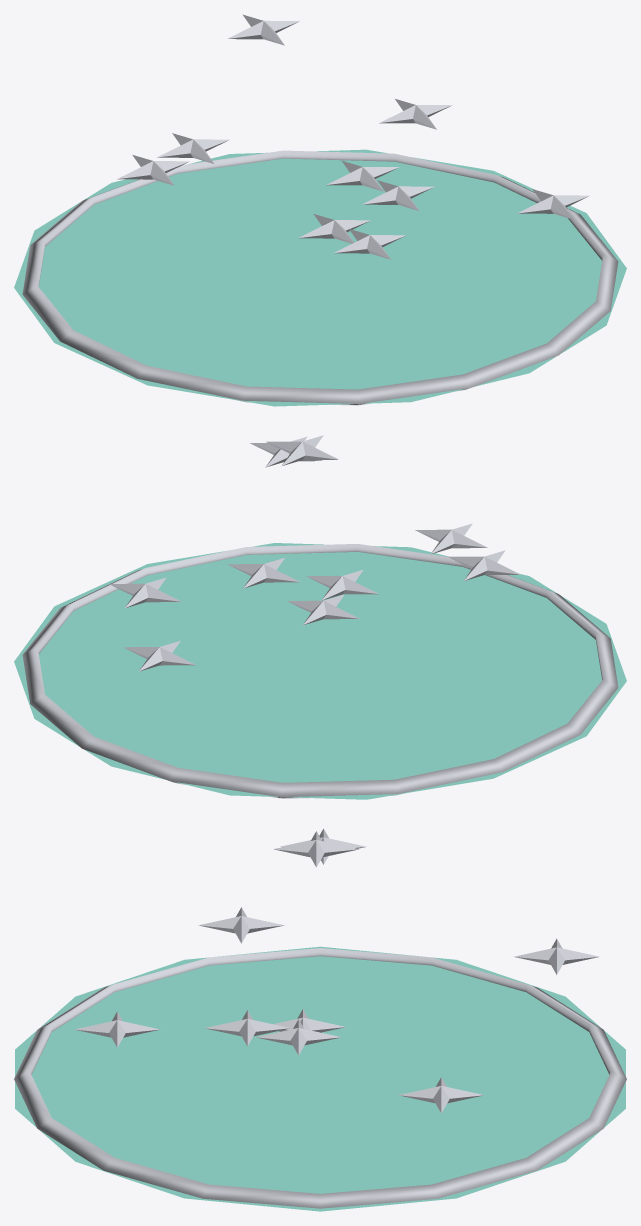
The model's file is ing_starlight_water.gltf.
3 renders of one model, top to bottom at view 1: azimuth 30°, elevation 25°; view 2: azimuth 150°, elevation 25°; view 3: azimuth 270°, elevation 25°, orthographic.
Parts seen in each view (by area): view 1: ing_starlight_water; view 2: ing_starlight_water; view 3: ing_starlight_water.
Part boxes in pixels (x1,y1,x2,y2): ing_starlight_water: [14, 14, 626, 406]; ing_starlight_water: [14, 435, 626, 799]; ing_starlight_water: [14, 828, 626, 1211].
Size of what is drawn, in the model's own units: 0.36 by 0.1265 by 0.352.
